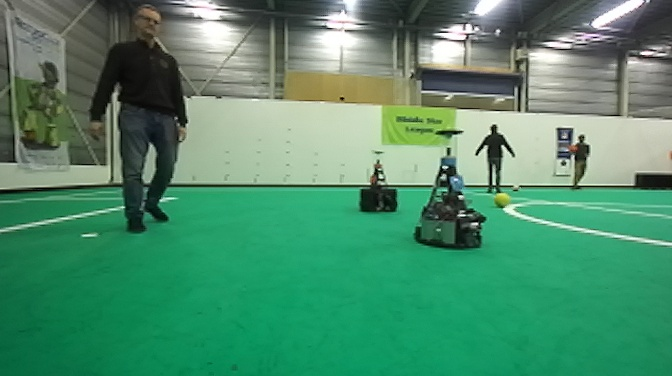ball: (493, 191, 511, 210), (510, 182, 521, 192), (569, 144, 579, 155)
human: (87, 1, 189, 232), (472, 122, 516, 194), (565, 128, 592, 190)
robot: (413, 128, 486, 252), (358, 150, 399, 214)
